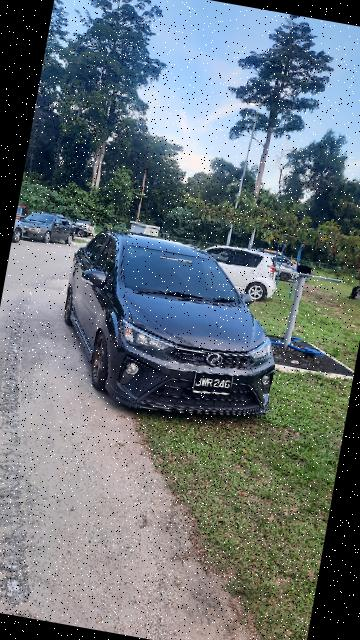License_Plate: (190, 368, 236, 400)
car: (46, 223, 302, 435)
